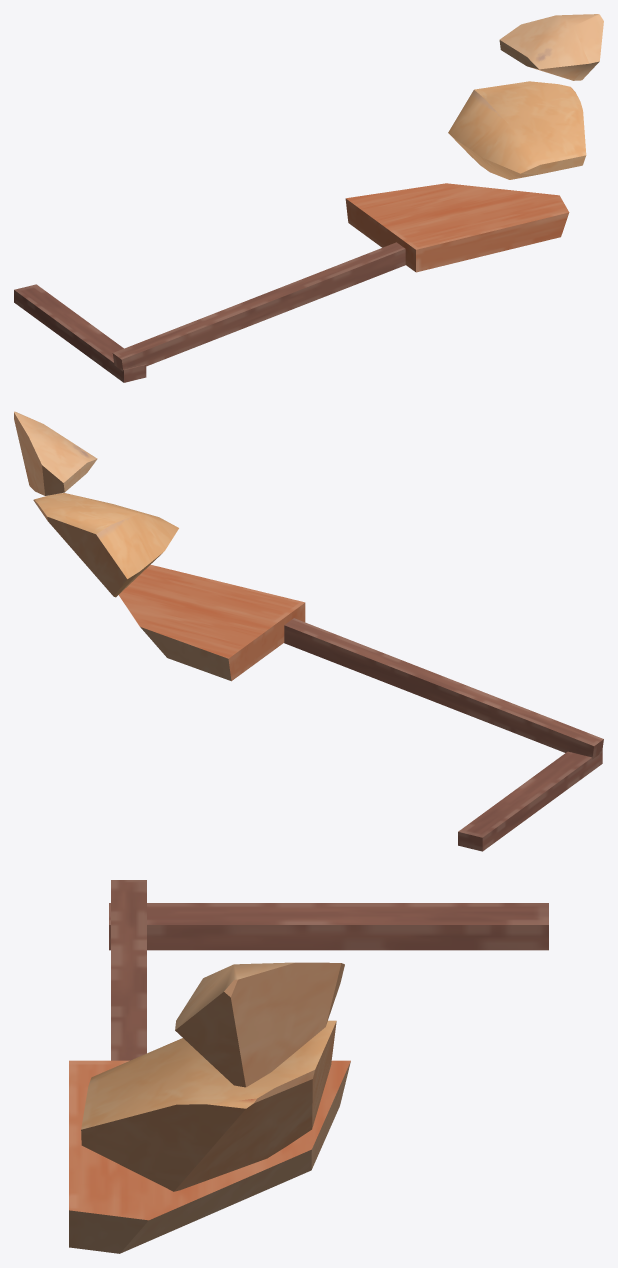
Rendered from cart_s05.fbx.
3 views of the same model, one above another, from view 1: azimuth 30°, elevation 25°; view 2: azimuth 150°, elevation 25°; view 3: azimuth 270°, elevation 25° (orthographic). The views are drawn at different scales.
Visible parts, largest first — view 1: cart_s05; view 2: cart_s05; view 3: cart_s05.
Boxes of the visible parts, box(x1,y1,x2,y2) form: cart_s05: box(14, 14, 603, 382); cart_s05: box(14, 411, 603, 851); cart_s05: box(69, 880, 548, 1253).
Size of the model in its own units: 5.9 by 2.45 by 2.4.
